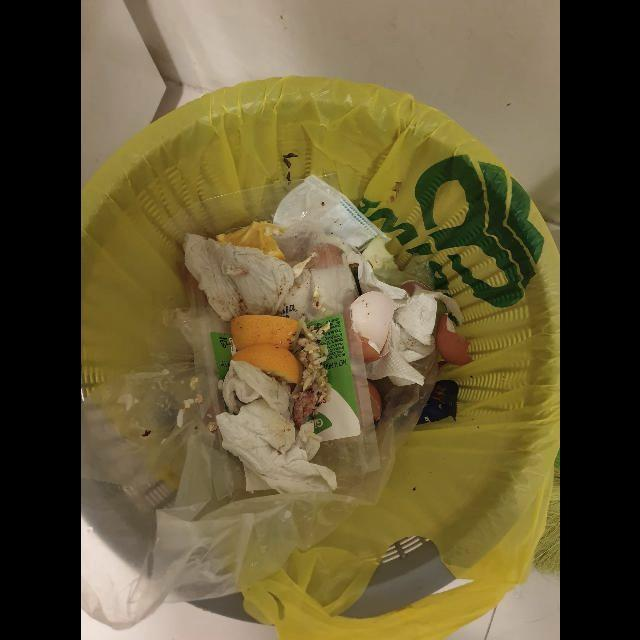food_wrapper: (155, 301, 380, 523)
left_over_food: (289, 319, 331, 430)
paper: (216, 399, 336, 495), (182, 233, 293, 322), (364, 293, 437, 387), (222, 360, 290, 422), (346, 251, 409, 304)
